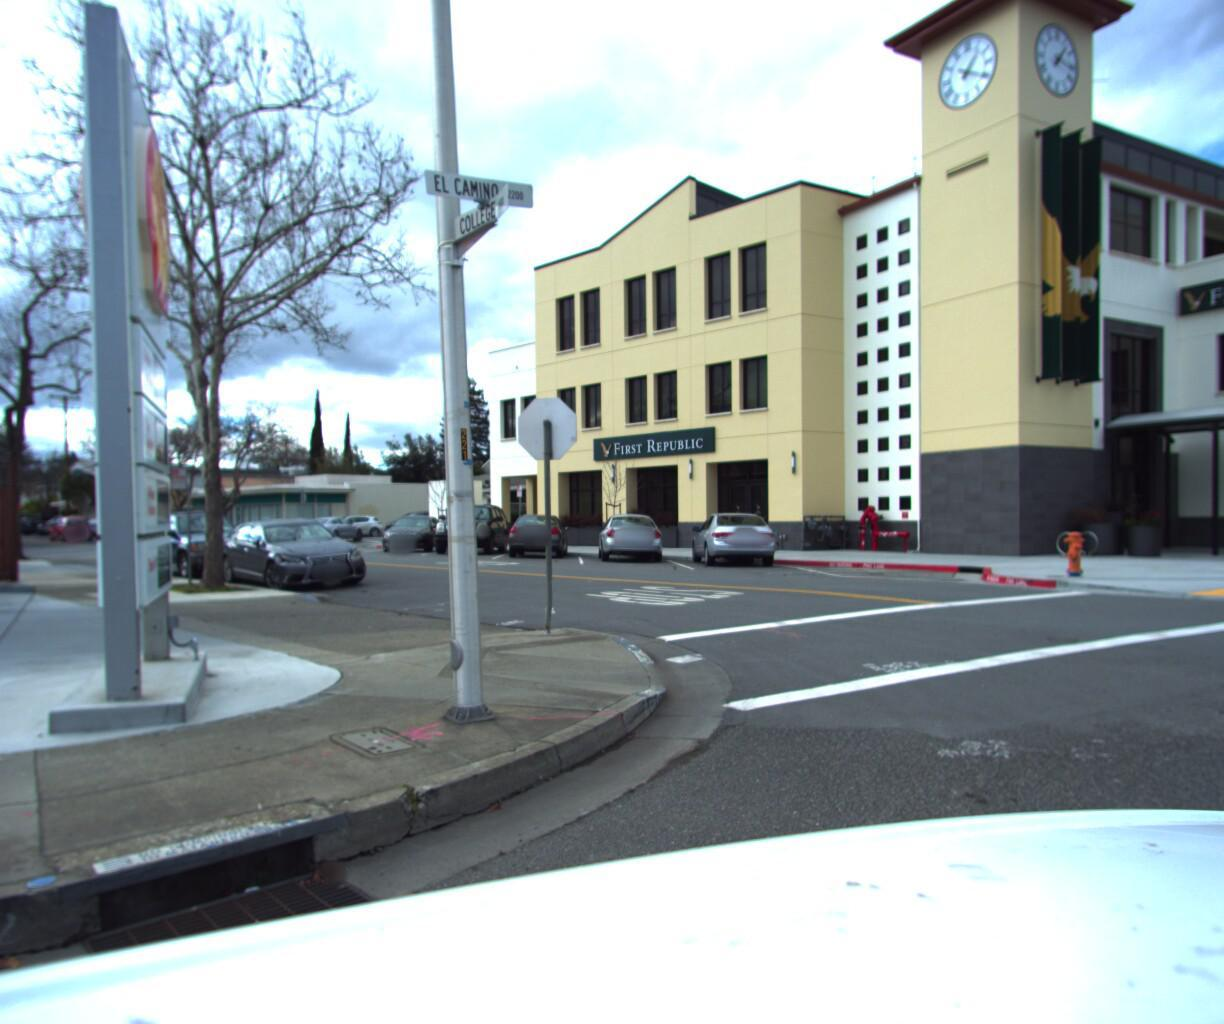car: (206, 508, 388, 592), (132, 495, 276, 576), (688, 501, 792, 564), (432, 494, 514, 550), (597, 504, 673, 560), (503, 503, 575, 553), (375, 504, 455, 546), (295, 505, 369, 534), (46, 506, 100, 531)
